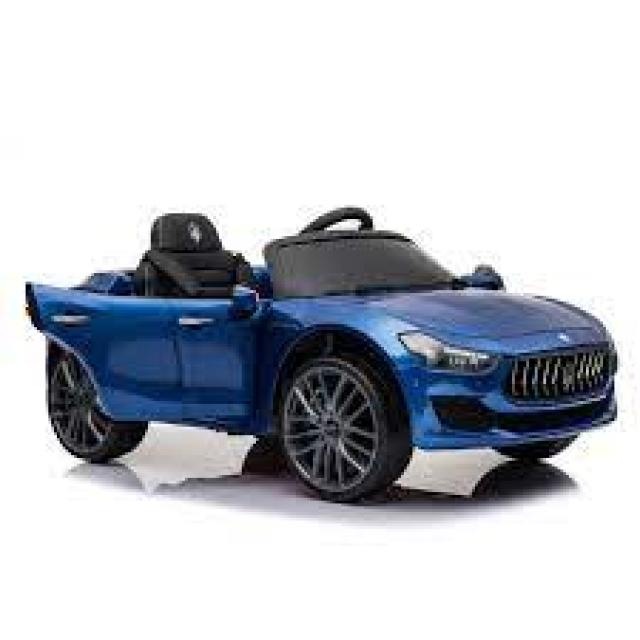Car: (23, 205, 617, 503)
